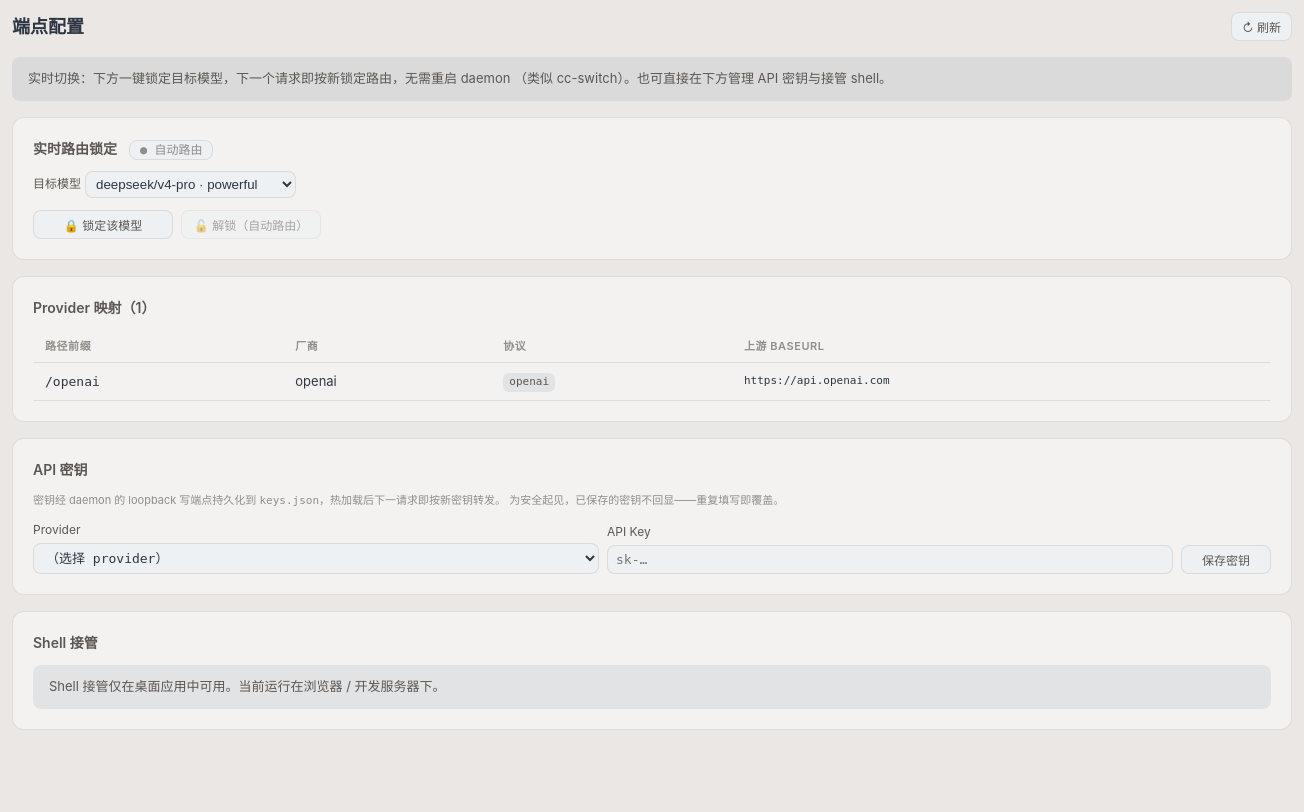
Test: ProvidersPage — cc-switch 实时锁定 UI › surfaces the daemon error in a banner when setActive rejects
The image size is (1304, 812).
Click the button "🔒 锁定该模型" at {"x": 103, "y": 224}, box [33,210,173,239]
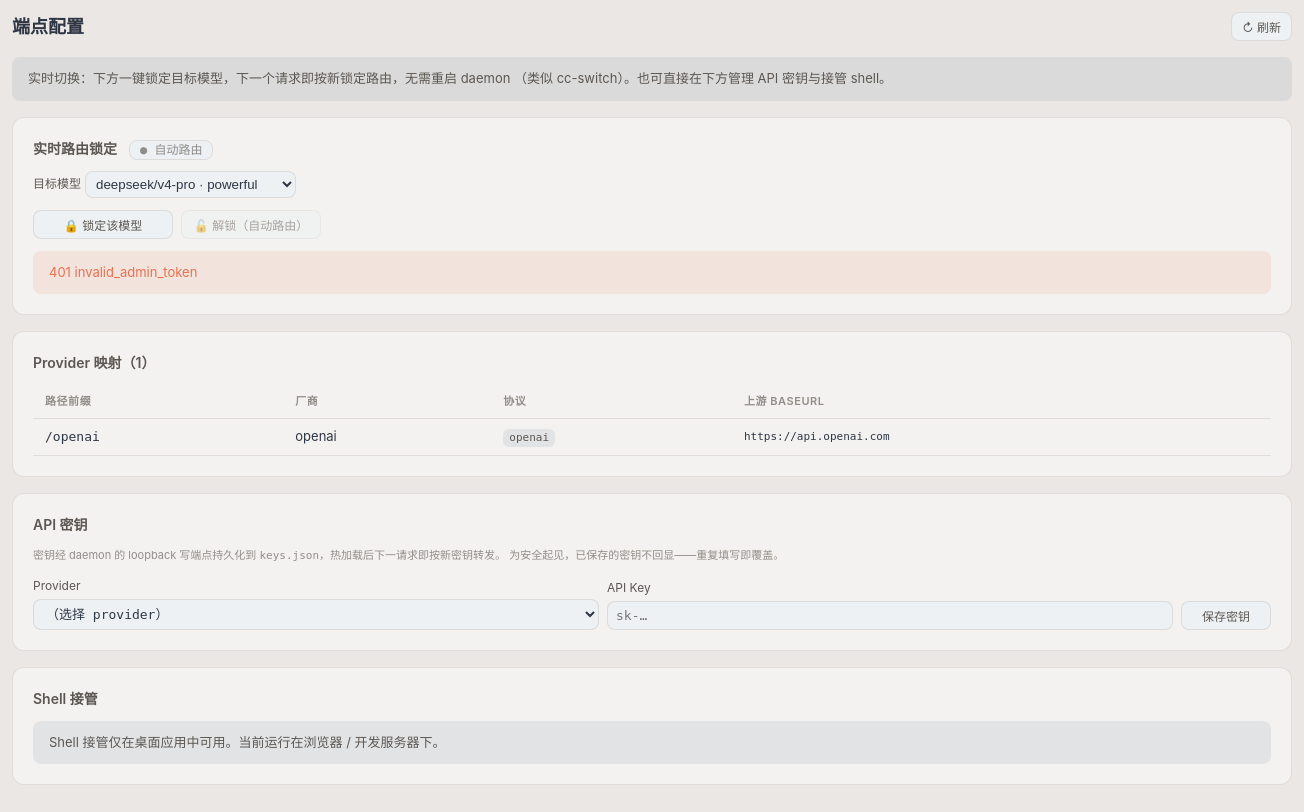
Expected: the text "401 invalid_admin_token" is shown, [33,251,1271,294]
